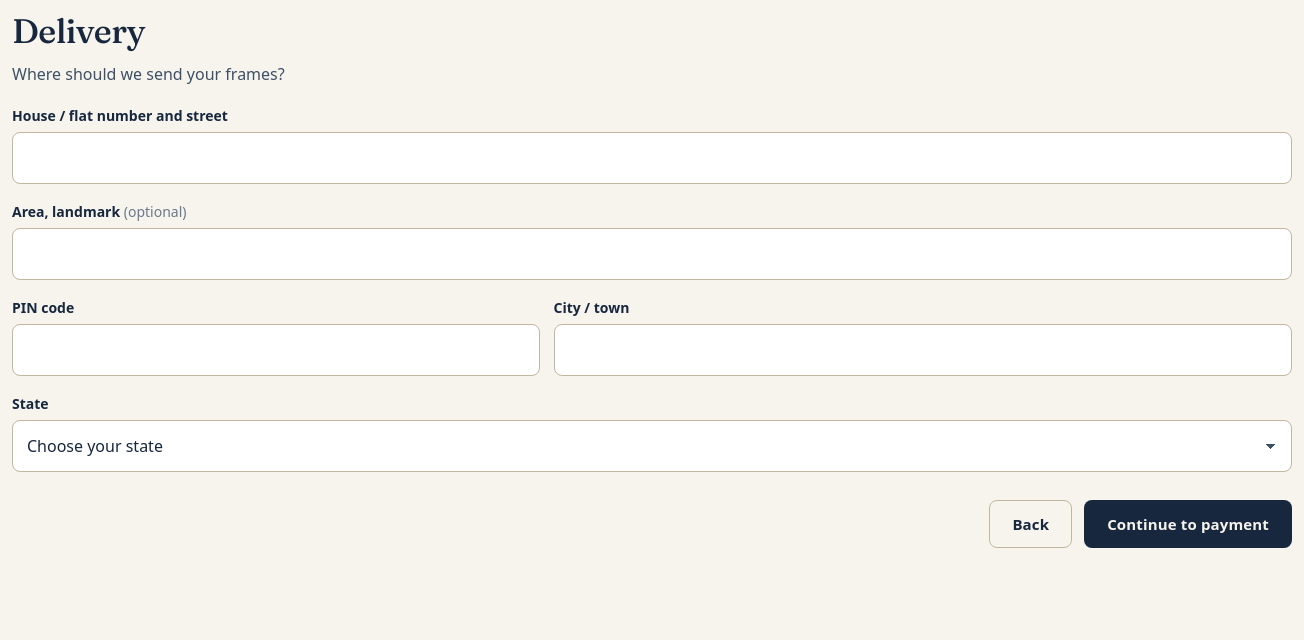
Test: Delivery › explains every missing or wrong piece, and does not advance
The width and height of the screenshot is (1304, 640).
Type "1234" into the field with test id "field-pin".
click(276, 350); type("1234")  # box [12, 324, 540, 376]
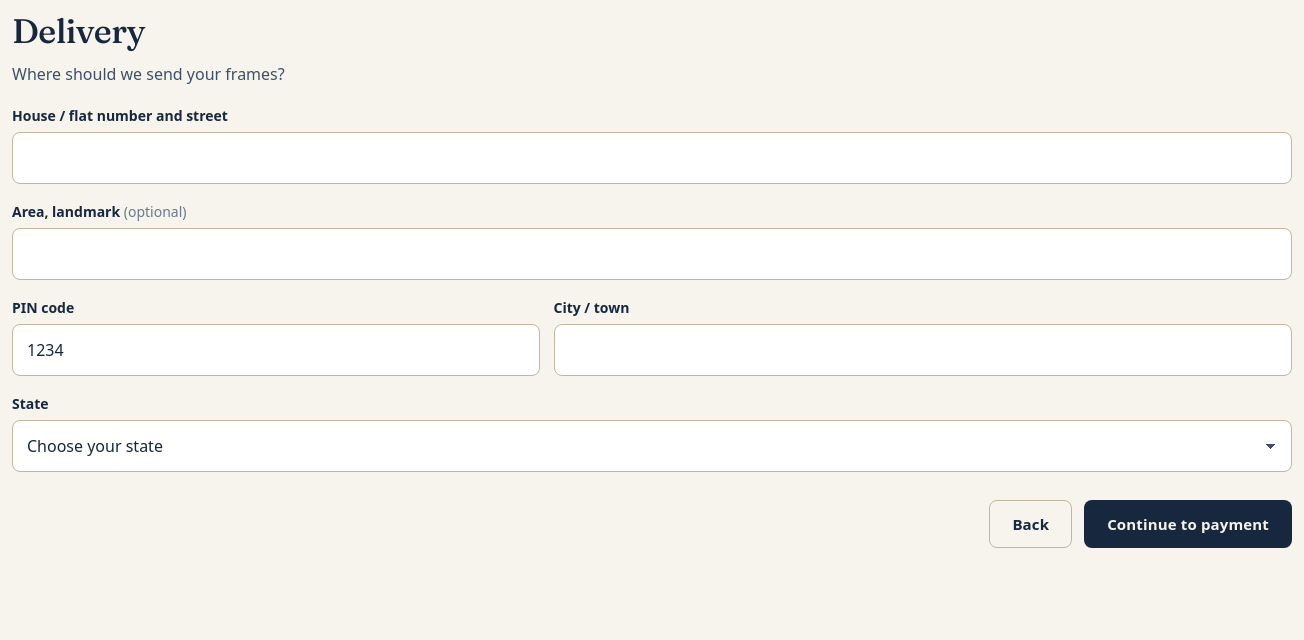
Click the button with test id "delivery-continue".
click(1188, 524)  # box [1084, 500, 1292, 548]
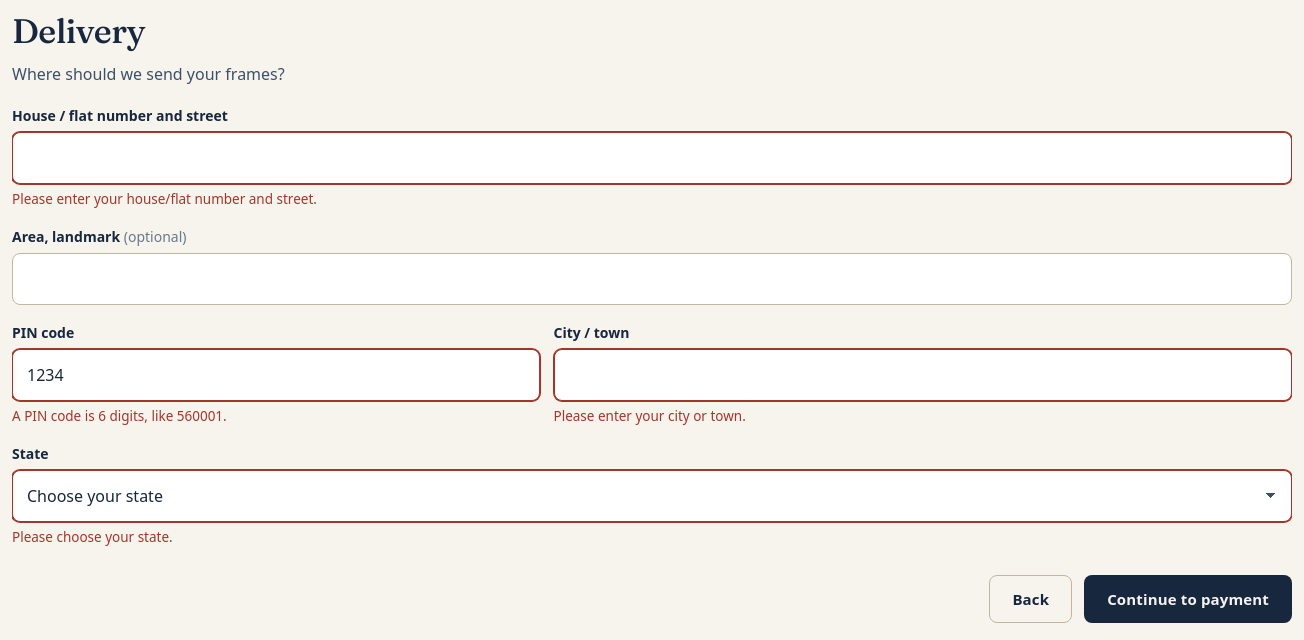
Expected: the text "A PIN code is 6 digits, like 560001." is shown, [12, 407, 227, 425]
Expected: the text "Please choose your state." is shown, [12, 528, 173, 546]
